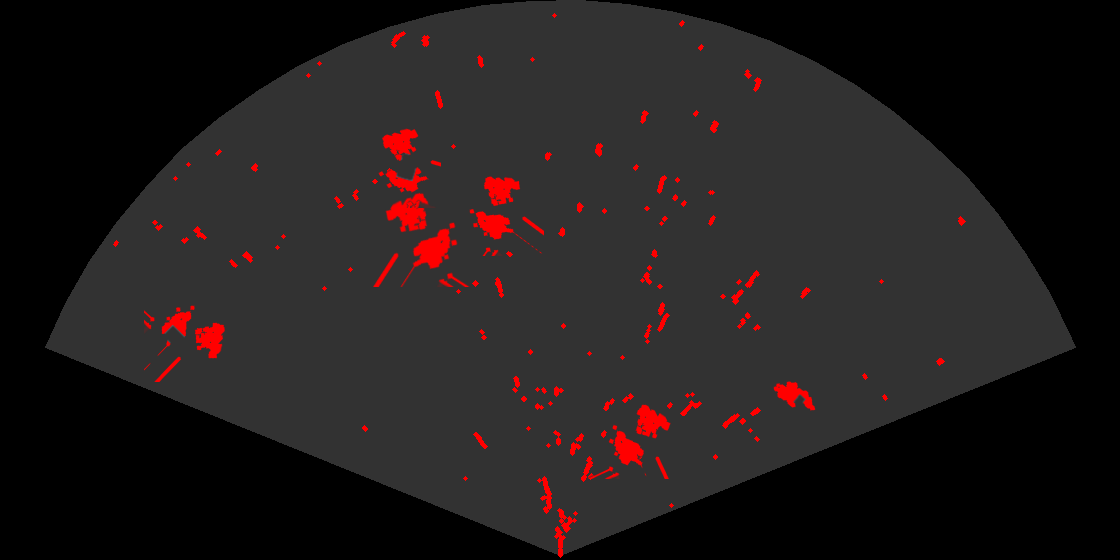AUV: (772, 380, 817, 412)
cage: (372, 191, 471, 287), (587, 403, 672, 479), (144, 304, 226, 382), (468, 175, 544, 256), (377, 127, 441, 208)
